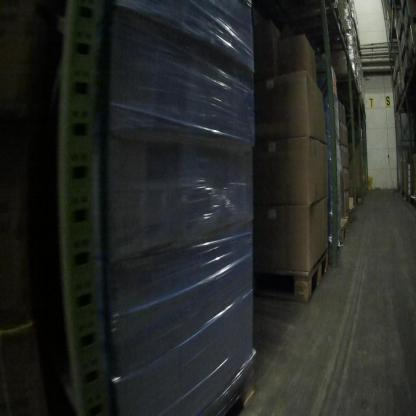pallet: (247, 249, 329, 313), (278, 1, 352, 52), (328, 67, 357, 97), (333, 212, 352, 249), (402, 48, 415, 95), (396, 93, 415, 118), (405, 14, 414, 49), (399, 186, 411, 209), (396, 23, 406, 46), (399, 45, 408, 70), (352, 20, 360, 48), (410, 194, 415, 210)
